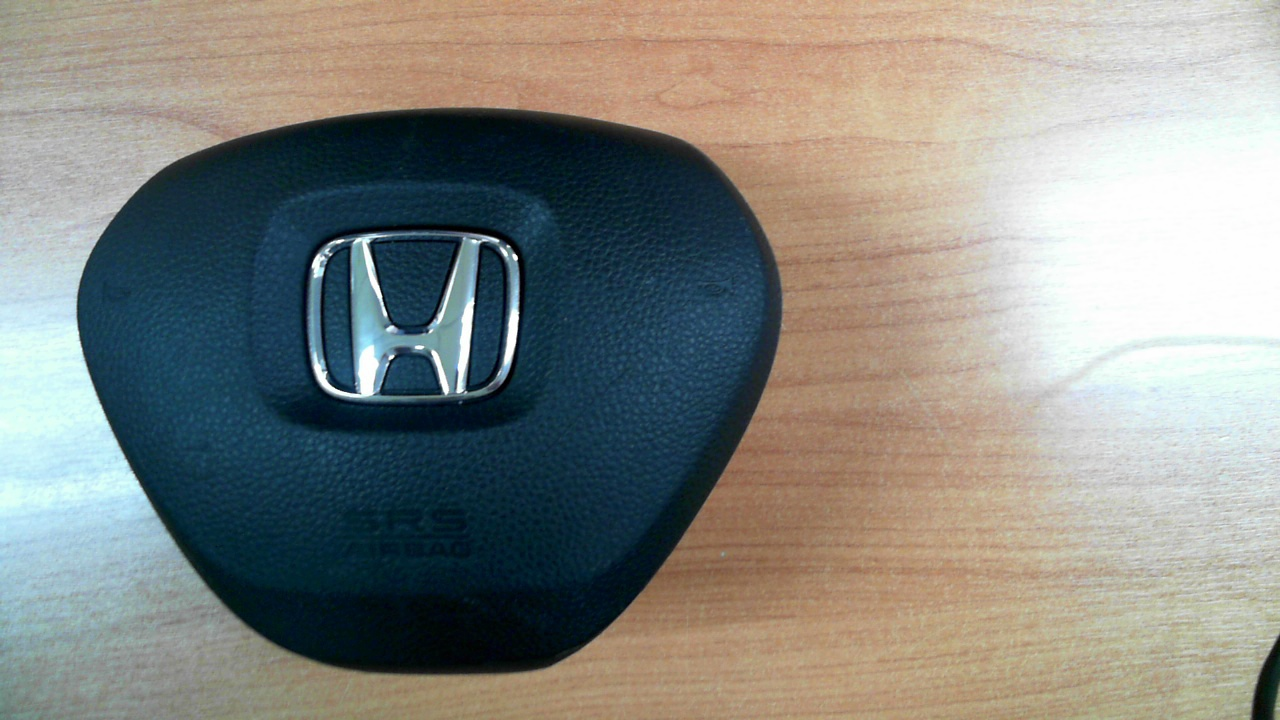Airbag: (76, 107, 782, 676)
Honda: (307, 231, 522, 399)
